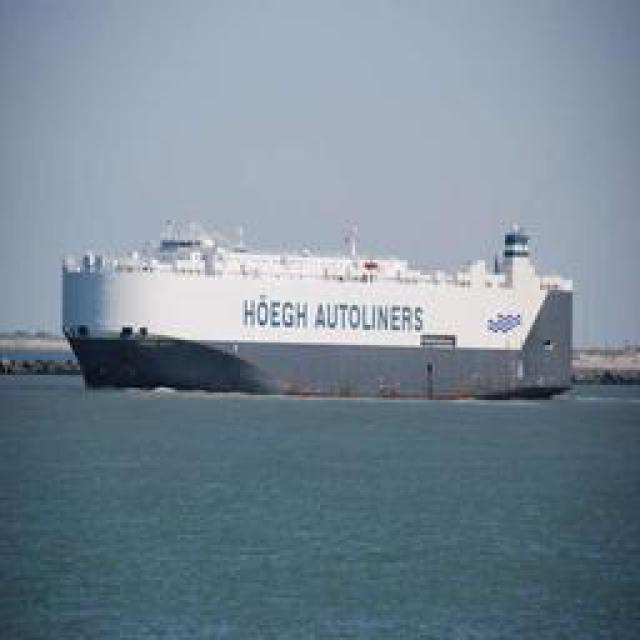Ship: (60, 215, 565, 385)
